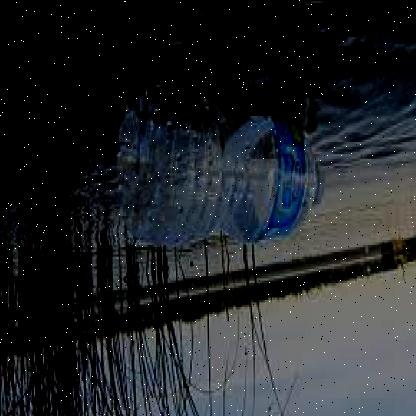Plastic Bottle: (116, 84, 324, 244)
